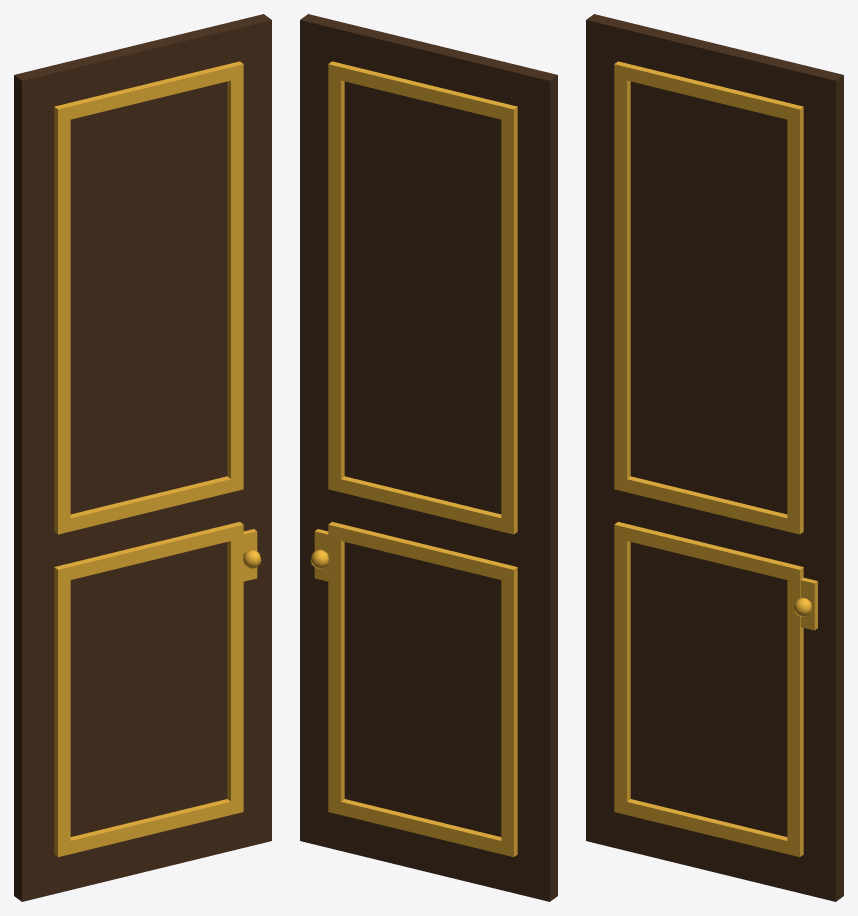
Rendered from SM_Door_academy_wood_90x280.fbx.
The picture shows the model from 3 angles, left to right: view 1: azimuth 30°, elevation 25°; view 2: azimuth 150°, elevation 25°; view 3: azimuth 330°, elevation 25°; orthographic projection.
Visible parts, largest first — view 1: SM_Door_academy_wood_90x280; view 2: SM_Door_academy_wood_90x280; view 3: SM_Door_academy_wood_90x280.
Boxes of the visible parts, bbox=[...] form: SM_Door_academy_wood_90x280: bbox=[14, 14, 271, 901]; SM_Door_academy_wood_90x280: bbox=[300, 14, 557, 901]; SM_Door_academy_wood_90x280: bbox=[586, 14, 843, 901].
Bounding box in the file's own units: 0.888 × 2.79 × 0.19.
